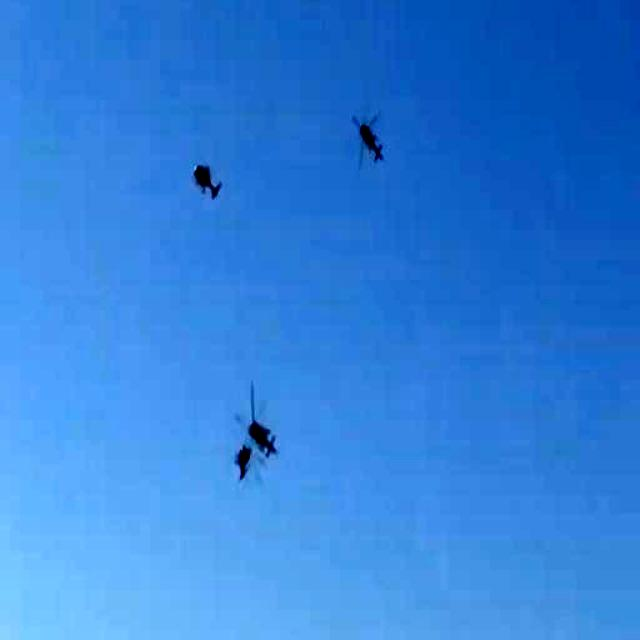drone: (240, 378, 291, 462), (350, 101, 388, 171), (190, 151, 226, 209), (231, 448, 255, 486)
